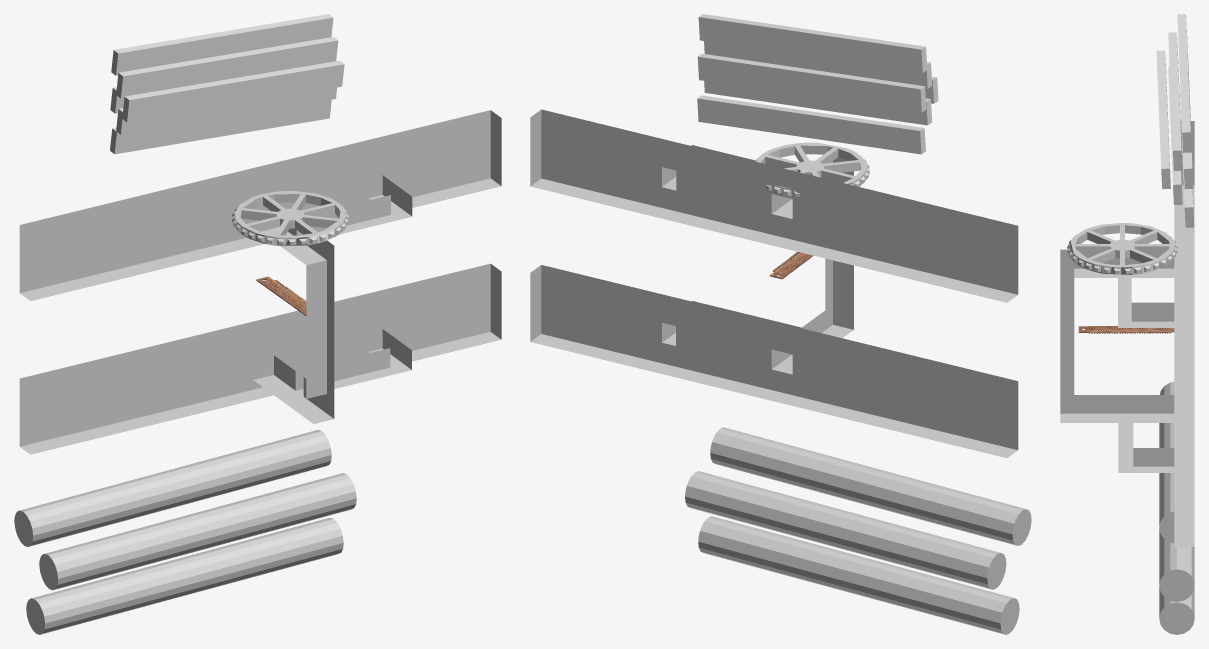
The model's file is buildings-sawmill-workshop.glb.
3 views of the same model, side by side, from view 1: azimuth 30°, elevation 25°; view 2: azimuth 150°, elevation 25°; view 3: azimuth 270°, elevation 25° (orthographic). The views are drawn at different scales.
Visible parts, largest first — view 1: Frame-Up, Log-3, Log-1, Log-2, Plank-1.006, Plank-1.005, Plank-1.003, Wheel-1, Plank-1.001, Plank-1.004, Saw; view 2: Frame-Up, Log-1, Log-2, Log-3, Plank-1.001, Plank-1.002, Plank-1.003, Wheel-1, Plank-1.005, Plank-1.004; view 3: Frame-Up, Wheel-1, Log-2, Log-1, Plank-1.006, Plank-1.003, Plank-1.005, Log-3, Saw, Plank-1.004, Plank-1.001, Plank-1.002.
Part boxes in pixels (<box>): Frame-Up: <box>19,110,501,454</box>; Log-3: <box>26,517,343,634</box>; Log-1: <box>14,429,331,546</box>; Log-2: <box>39,473,356,590</box>; Plank-1.006: <box>122,60,344,122</box>; Plank-1.005: <box>116,37,338,98</box>; Plank-1.003: <box>111,14,333,75</box>; Wheel-1: <box>232,191,348,245</box>; Plank-1.001: <box>110,99,331,154</box>; Plank-1.004: <box>116,87,337,134</box>; Saw: <box>256,276,306,315</box>; Frame-Up: <box>530,109,1018,458</box>; Log-1: <box>710,427,1031,545</box>; Log-2: <box>685,471,1006,589</box>; Log-3: <box>698,516,1019,634</box>; Plank-1.001: <box>697,95,925,154</box>; Plank-1.002: <box>697,53,926,112</box>; Plank-1.003: <box>698,14,927,72</box>; Wheel-1: <box>756,142,869,197</box>; Plank-1.005: <box>704,41,932,88</box>; Plank-1.004: <box>704,81,932,125</box>; Frame-Up: <box>1060,121,1194,546</box>; Wheel-1: <box>1067,223,1177,274</box>; Log-2: <box>1159,529,1194,601</box>; Log-1: <box>1159,382,1174,543</box>; Plank-1.006: <box>1156,50,1170,189</box>; Plank-1.003: <box>1177,14,1191,152</box>; Plank-1.005: <box>1168,32,1182,170</box>; Log-3: <box>1159,587,1194,634</box>; Saw: <box>1078,326,1174,333</box>; Plank-1.004: <box>1168,66,1182,204</box>; Plank-1.001: <box>1180,89,1194,227</box>; Plank-1.002: <box>1183,52,1193,189</box>.
Bounding box in the file's own units: 14.62 × 16.42 × 3.79.
Materials: 2 (1 with a texture image).
